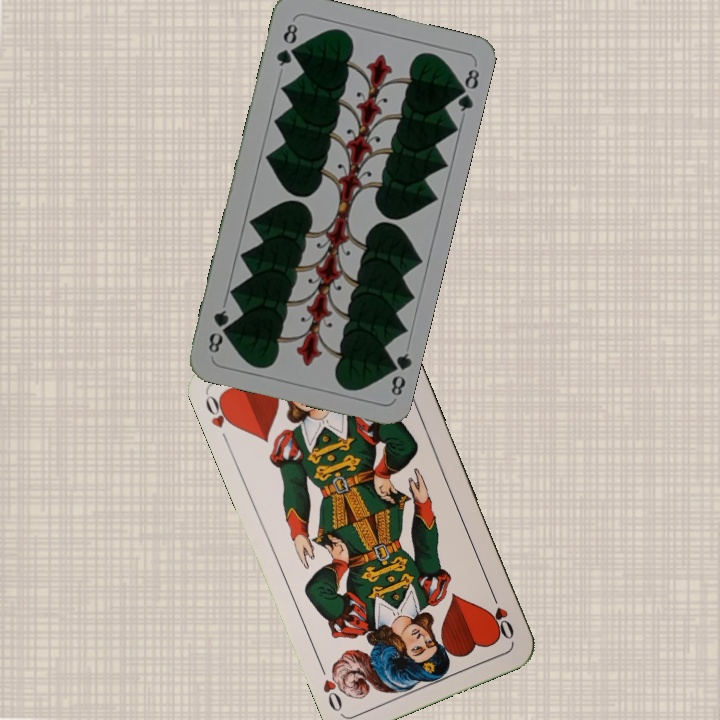G8: (382, 349, 414, 399), (272, 19, 300, 69)
HO: (486, 587, 517, 643), (201, 390, 237, 431)
